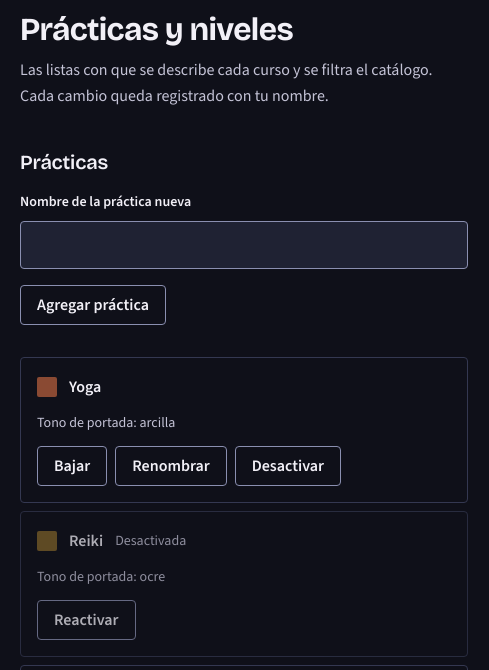
Test: agregar › lo que se estaba escribiendo sin enviar se queda cuando se pulsa otro botón del bloque
Type "Reiki" into the field labelled "Nombre de la práctica nueva".
click(244, 245); type("Reiki")  # box [20,221,468,269]
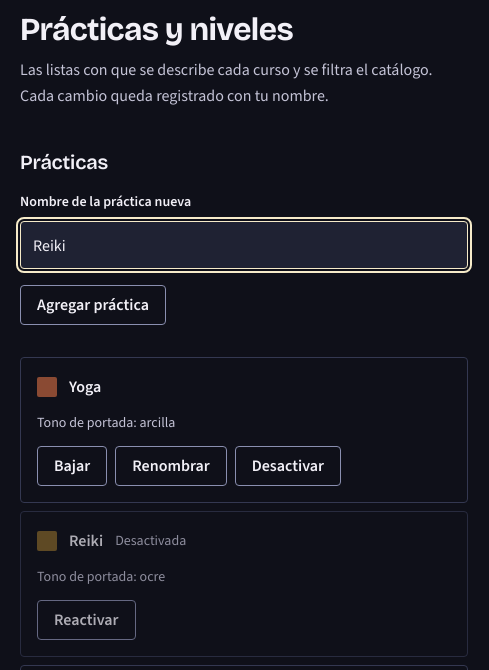
Click the button named "Desactivar «Yoga»".
click(288, 466)  # box [235,446,341,486]
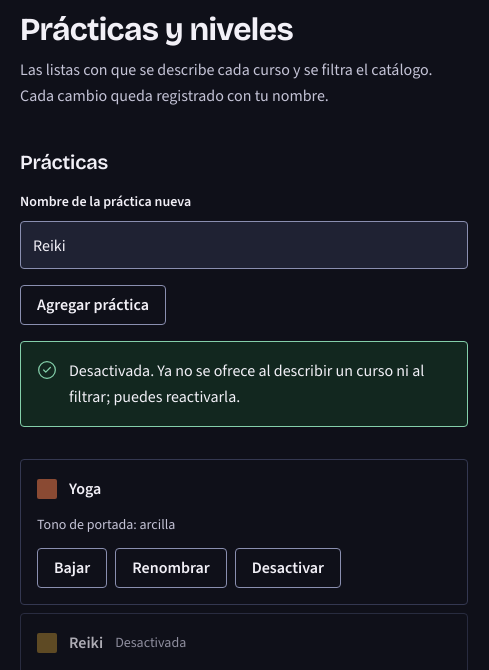
Check: the text "Desactivada. Ya no se ofrece" is shown, box [69,360,424,407]
